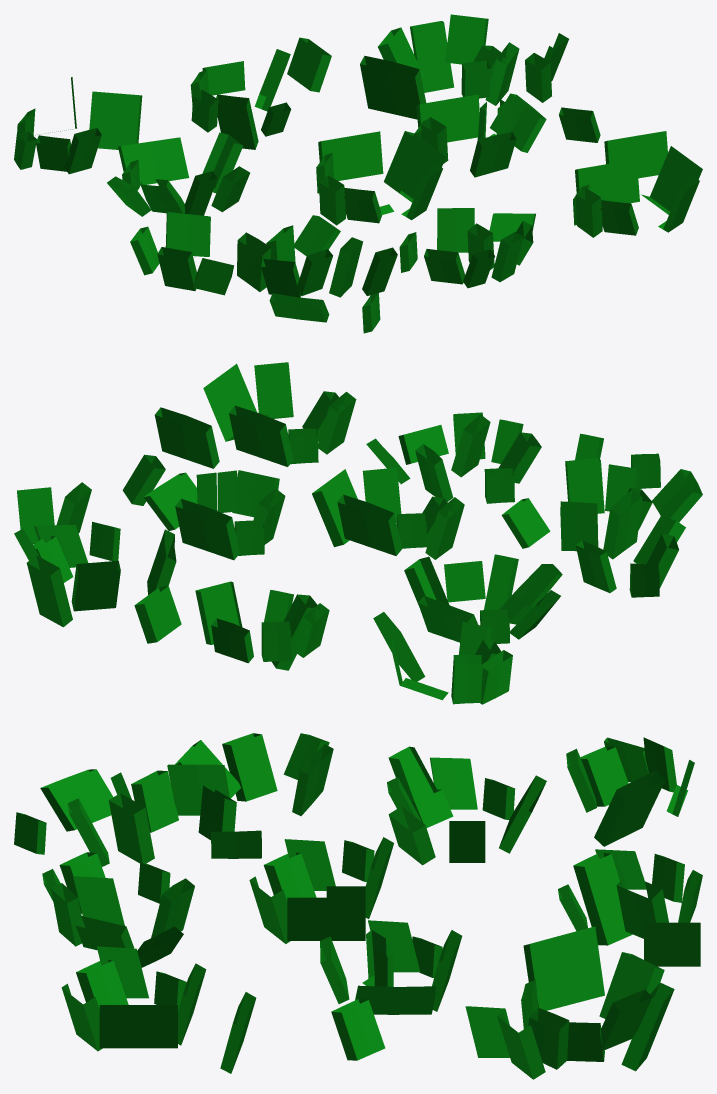
The model's file is grasscut.glb.
3 renders of one model, top to bottom at view 1: azimuth 30°, elevation 25°; view 2: azimuth 150°, elevation 25°; view 3: azimuth 270°, elevation 25°, orthographic. The views are drawn at different scales.
Visible parts, largest first — view 1: Blade1.002, Blade1.022, Blade1.015, Blade1.006, Blade1, Blade2.006, Blade1.012, Blade1.010, Blade1.018, Blade1.014, Blade1.025, Blade3.001 (+49 smaller); view 2: Blade1.018, Blade1.010, Blade1.015, Blade1.012, Blade1.003, Blade2.006, Blade1.014, Blade2.029, Blade2.027, Blade1.005, Blade2.010, Blade2.023 (+54 smaller); view 3: Blade1.002, Blade1, Blade1.014, Blade2.011, Blade1.022, Blade1.017, Blade2.048, Blade1.005, Blade2.015, Blade2.037, Blade2.027, Blade2.025 (+56 smaller).
Part boxes in pixels (x1,y1,x2,y2): Blade1.002: (360,55,426,119); Blade1.022: (89,91,142,149); Blade1.015: (318,131,383,180); Blade1.006: (118,137,189,185); Blade1: (384,131,445,202); Blade2.006: (410,21,454,92); Blade1.012: (575,159,639,203); Blade1.010: (416,94,479,142); Blade1.018: (604,131,667,178); Blade1.014: (641,146,702,214); Blade1.025: (165,212,210,256); Blade3.001: (445,14,488,64); Blade1.018: (154,407,219,468); Blade1.010: (175,498,239,560); Blade1.015: (337,494,402,555); Blade1.012: (229,405,293,466); Blade1.003: (71,560,120,611); Blade2.006: (26,555,72,627); Blade1.014: (203,363,268,441); Blade2.029: (254,362,293,418); Blade2.027: (603,489,642,559); Blade1.005: (134,586,181,643); Blade2.010: (195,581,242,644); Blade2.023: (560,501,598,551); Blade1.002: (523,926,604,1010); Blade1: (287,886,365,940); Blade1.014: (99,1005,177,1048); Blade2.011: (573,853,632,945); Blade1.022: (594,770,665,846); Blade1.017: (40,769,113,831); Blade2.048: (222,733,277,801); Blade1.005: (644,922,700,966); Blade2.015: (388,746,453,827); Blade2.037: (331,999,385,1060); Blade2.027: (167,764,229,815); Blade2.025: (108,793,154,863).
Size of the model in its own units: 18.95 by 2.87 by 17.62.
